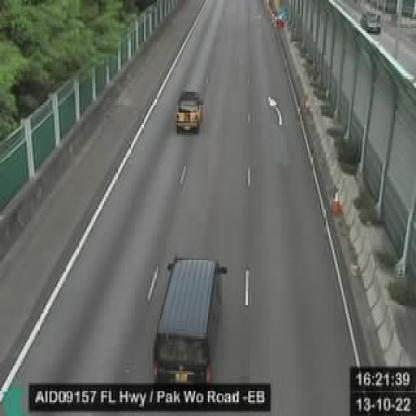Car: (152, 254, 224, 388), (175, 88, 205, 134), (361, 10, 383, 35)
